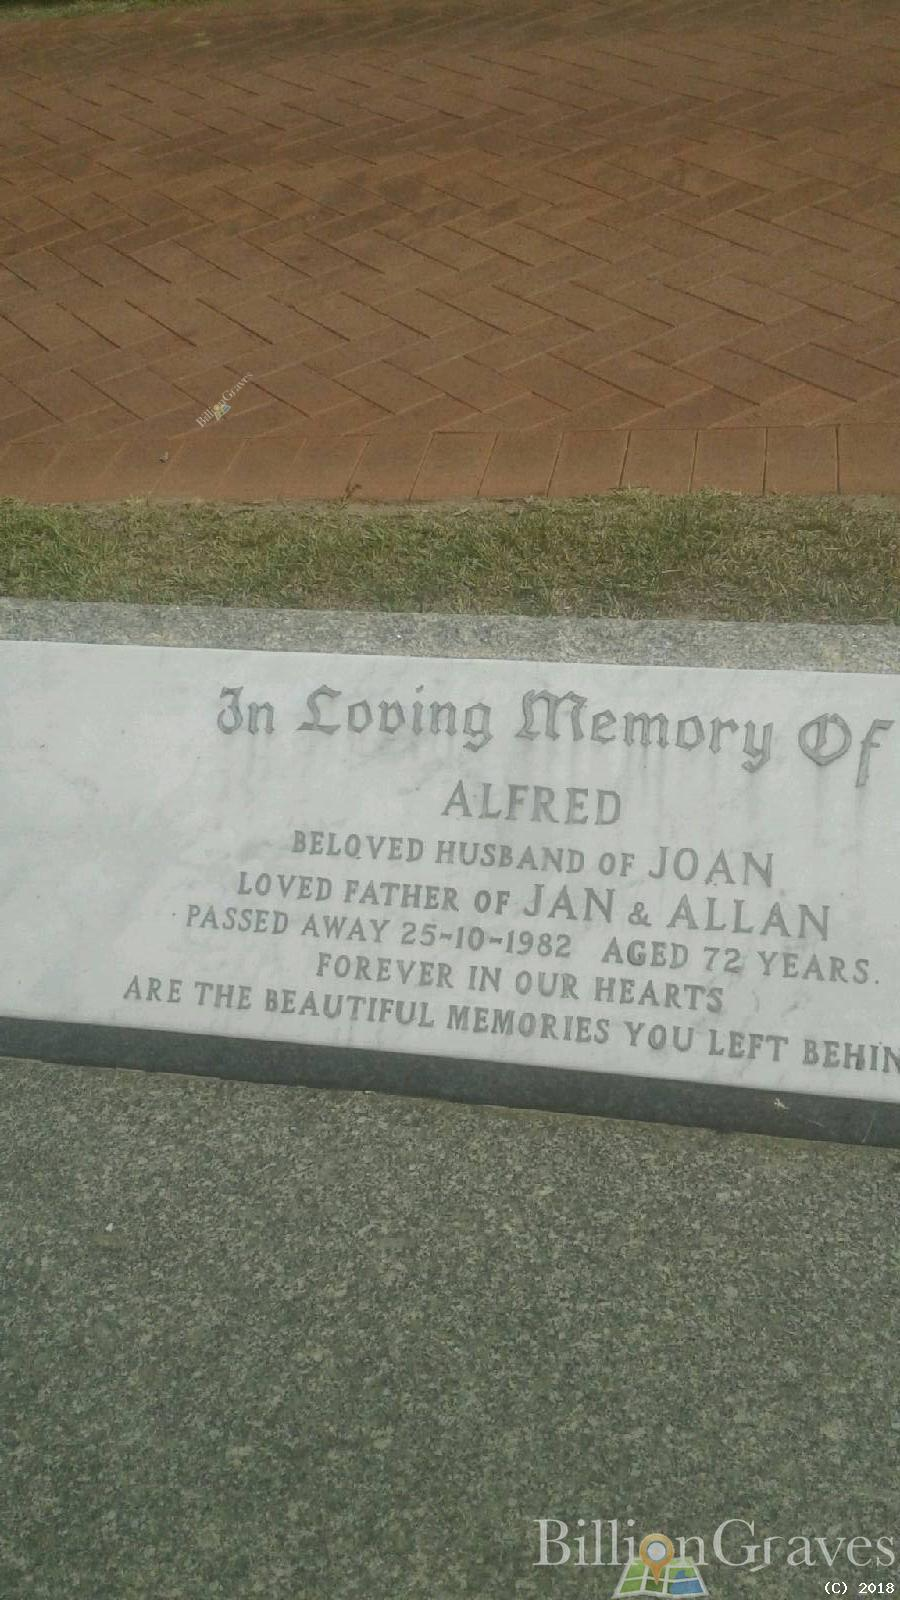flat: (0, 590, 897, 1149)
